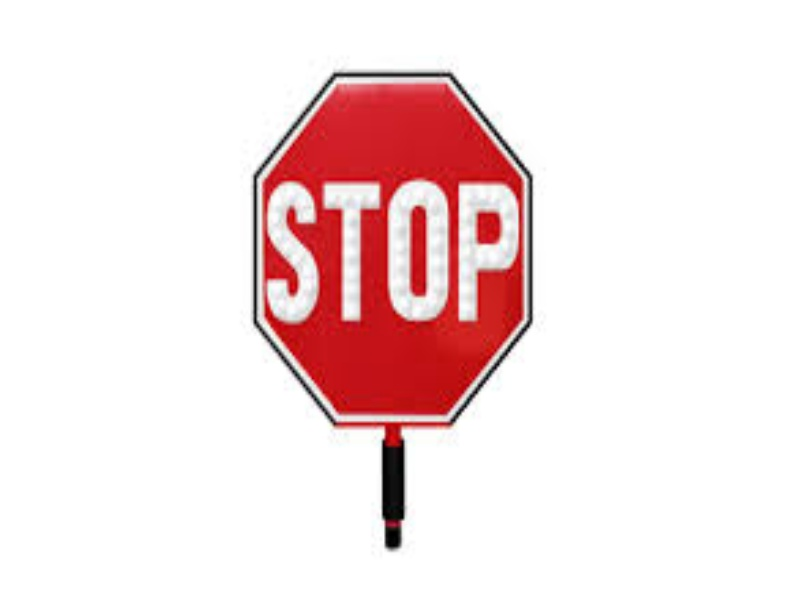Stop_Sign: (251, 70, 531, 428)
